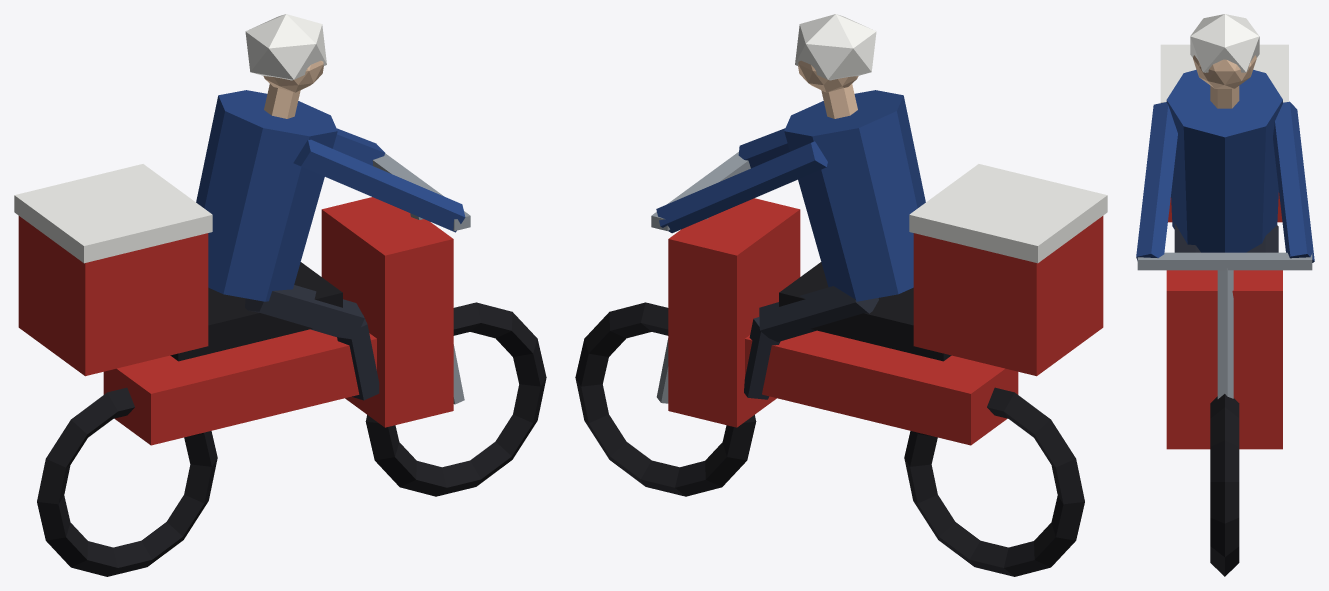
File: moped.glb
The picture shows the model from 3 angles, left to right: view 1: azimuth 30°, elevation 25°; view 2: azimuth 150°, elevation 25°; view 3: azimuth 270°, elevation 25°; orthographic projection. The views are drawn at different scales.
Parts seen in each view (by area): view 1: moped; view 2: moped; view 3: moped.
Boxes of the visible parts, x1,y1,x2,y2 form: moped: (14,14,546,576); moped: (575,14,1107,576); moped: (1136,14,1314,576).
Size of the model in its own units: 1.86 by 1.81 by 0.6137.
